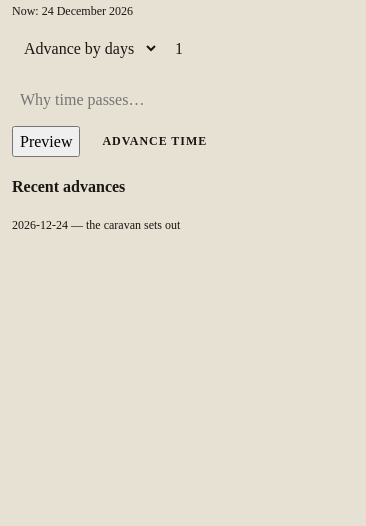
Test: an overlong span reports the span and says why it is not itemized
Expected: the text "Now: 24 December 2026" is shown, [12,4,133,18]
Click the button "Preview" at (46, 142), box [12,126,80,157]
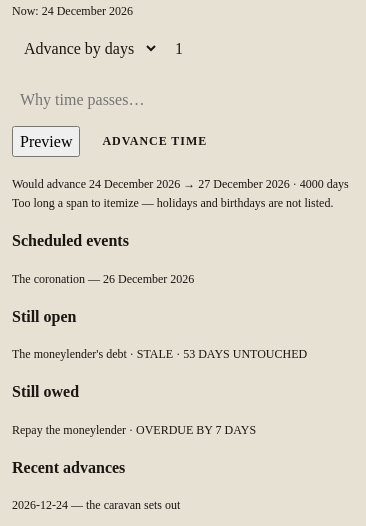
Result: the text "4000 days" is shown at [300,177,349,191]
Result: the text "Too long a span to itemize" is shown at [12,196,333,210]
